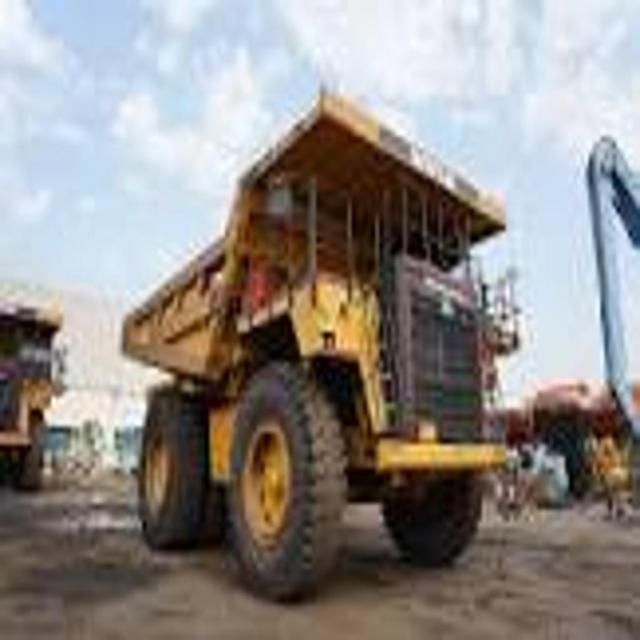dump_truck: (102, 83, 522, 597)
